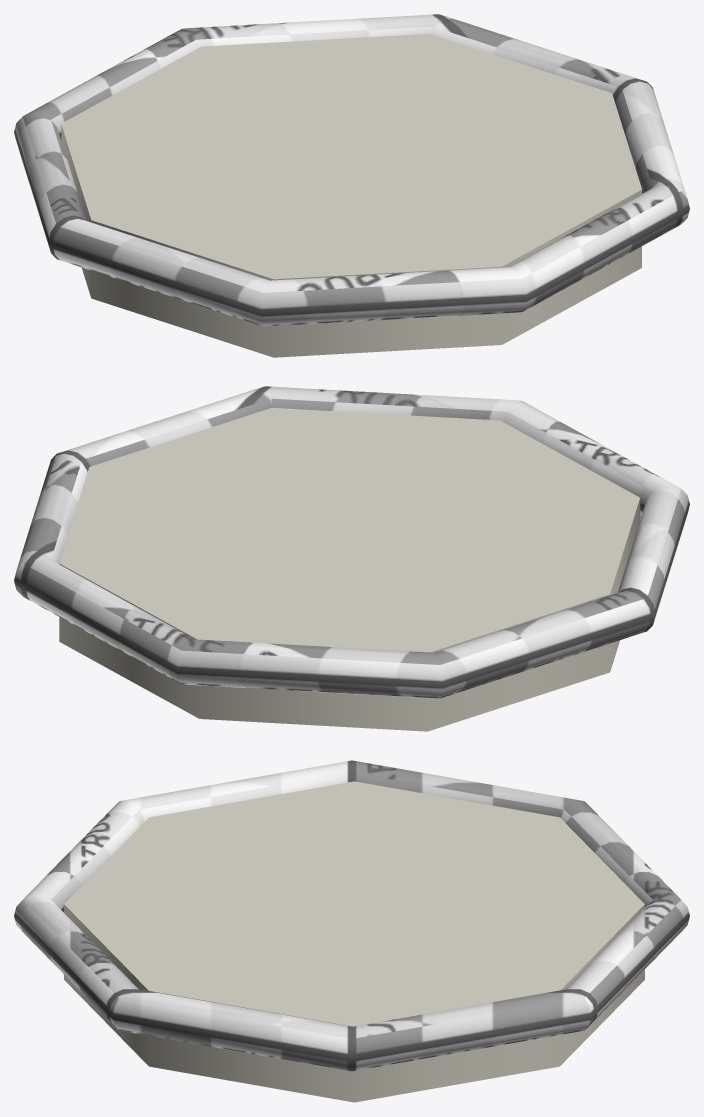
File: ceiling light.fbx
3 views of the same model, one above another, from view 1: azimuth 30°, elevation 25°; view 2: azimuth 150°, elevation 25°; view 3: azimuth 270°, elevation 25° (orthographic). The views are drawn at different scales.
Parts seen in each view (by area): view 1: ceiling_light, Torus; view 2: ceiling_light, Torus; view 3: ceiling_light, Torus.
Boxes of the visible parts, left/top/right/bottom form: ceiling_light: left=61, top=34, right=641, bottom=357; Torus: left=14, top=14, right=689, bottom=326; ceiling_light: left=59, top=408, right=640, bottom=731; Torus: left=14, top=386, right=689, bottom=698; ceiling_light: left=64, top=781, right=644, bottom=1102; Torus: left=14, top=760, right=689, bottom=1071.
Size of the model in its own units: 193 by 26.36 by 193.
